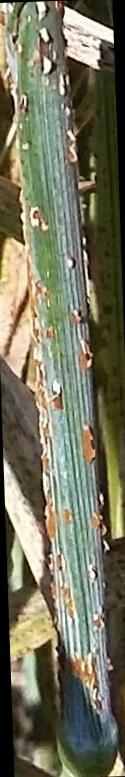Sugarcane: (10, 41, 98, 704)
